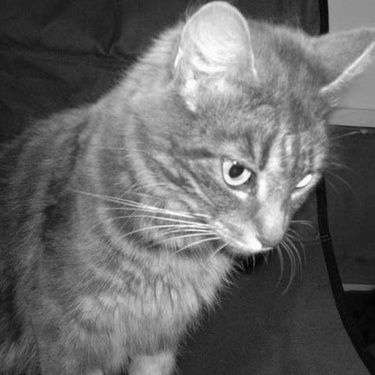cat: (9, 10, 370, 366)
